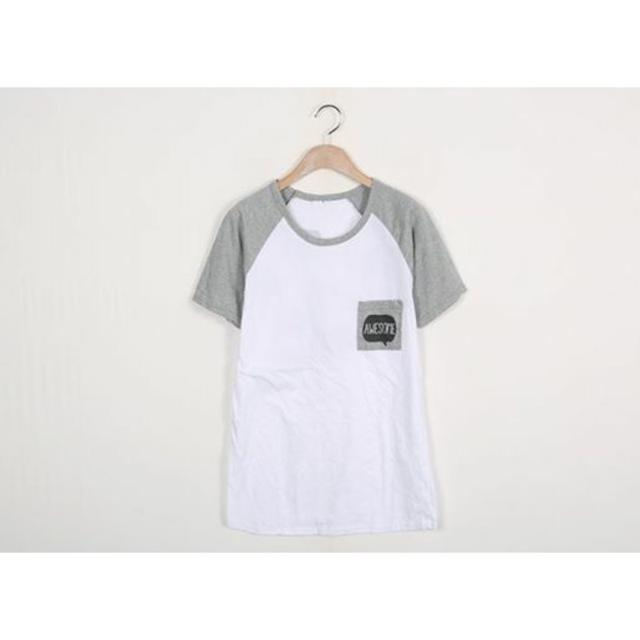Tops: (195, 178, 470, 532)
